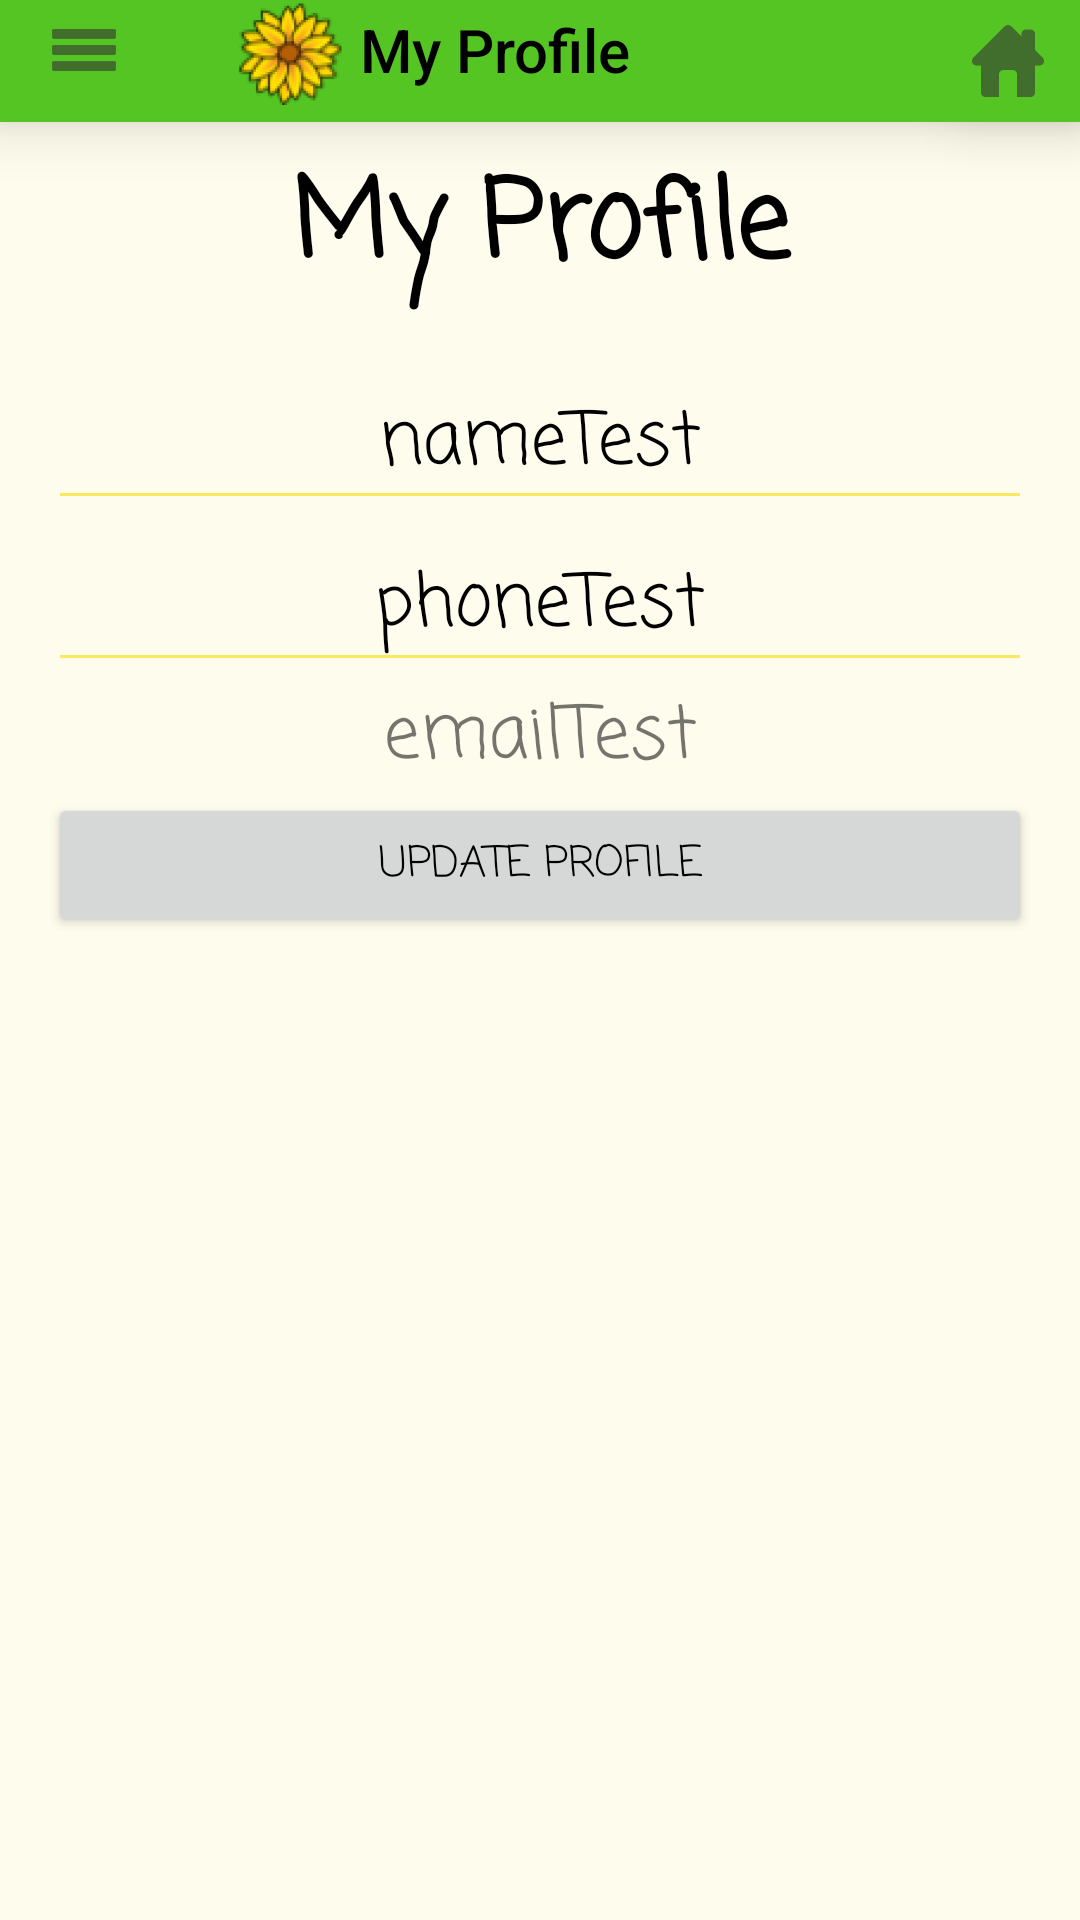

Locate icon controls on the screen. Image size 1080x1920, boxes as bbox(x1, y1, x2, y2).
home: bbox(972, 25, 1044, 97)
